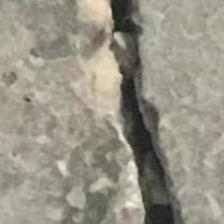Crack: (95, 0, 193, 224)
